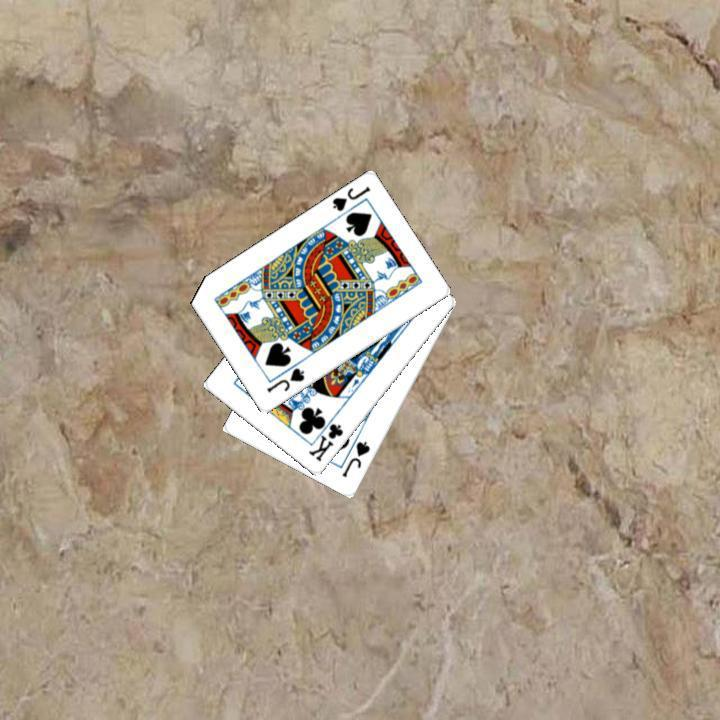J: (262, 363, 307, 395), (327, 182, 372, 214), (338, 437, 372, 479)
K: (304, 411, 345, 464)
